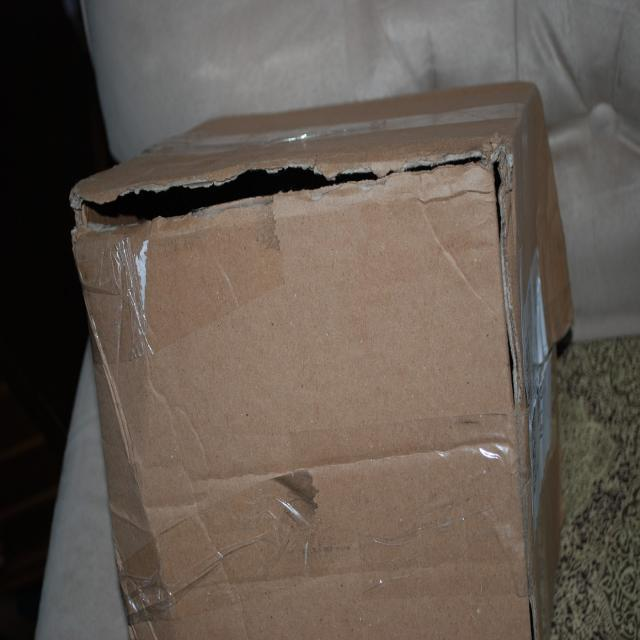hole: (79, 149, 497, 239)
